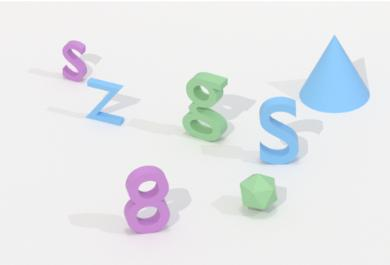0-TamGiac: (295, 30, 378, 117)
0-TronCanh: (234, 168, 281, 215)
8: (119, 160, 173, 238)
S: (254, 90, 306, 168), (57, 36, 88, 84)
Z: (83, 76, 130, 130)
g: (177, 68, 234, 146)
